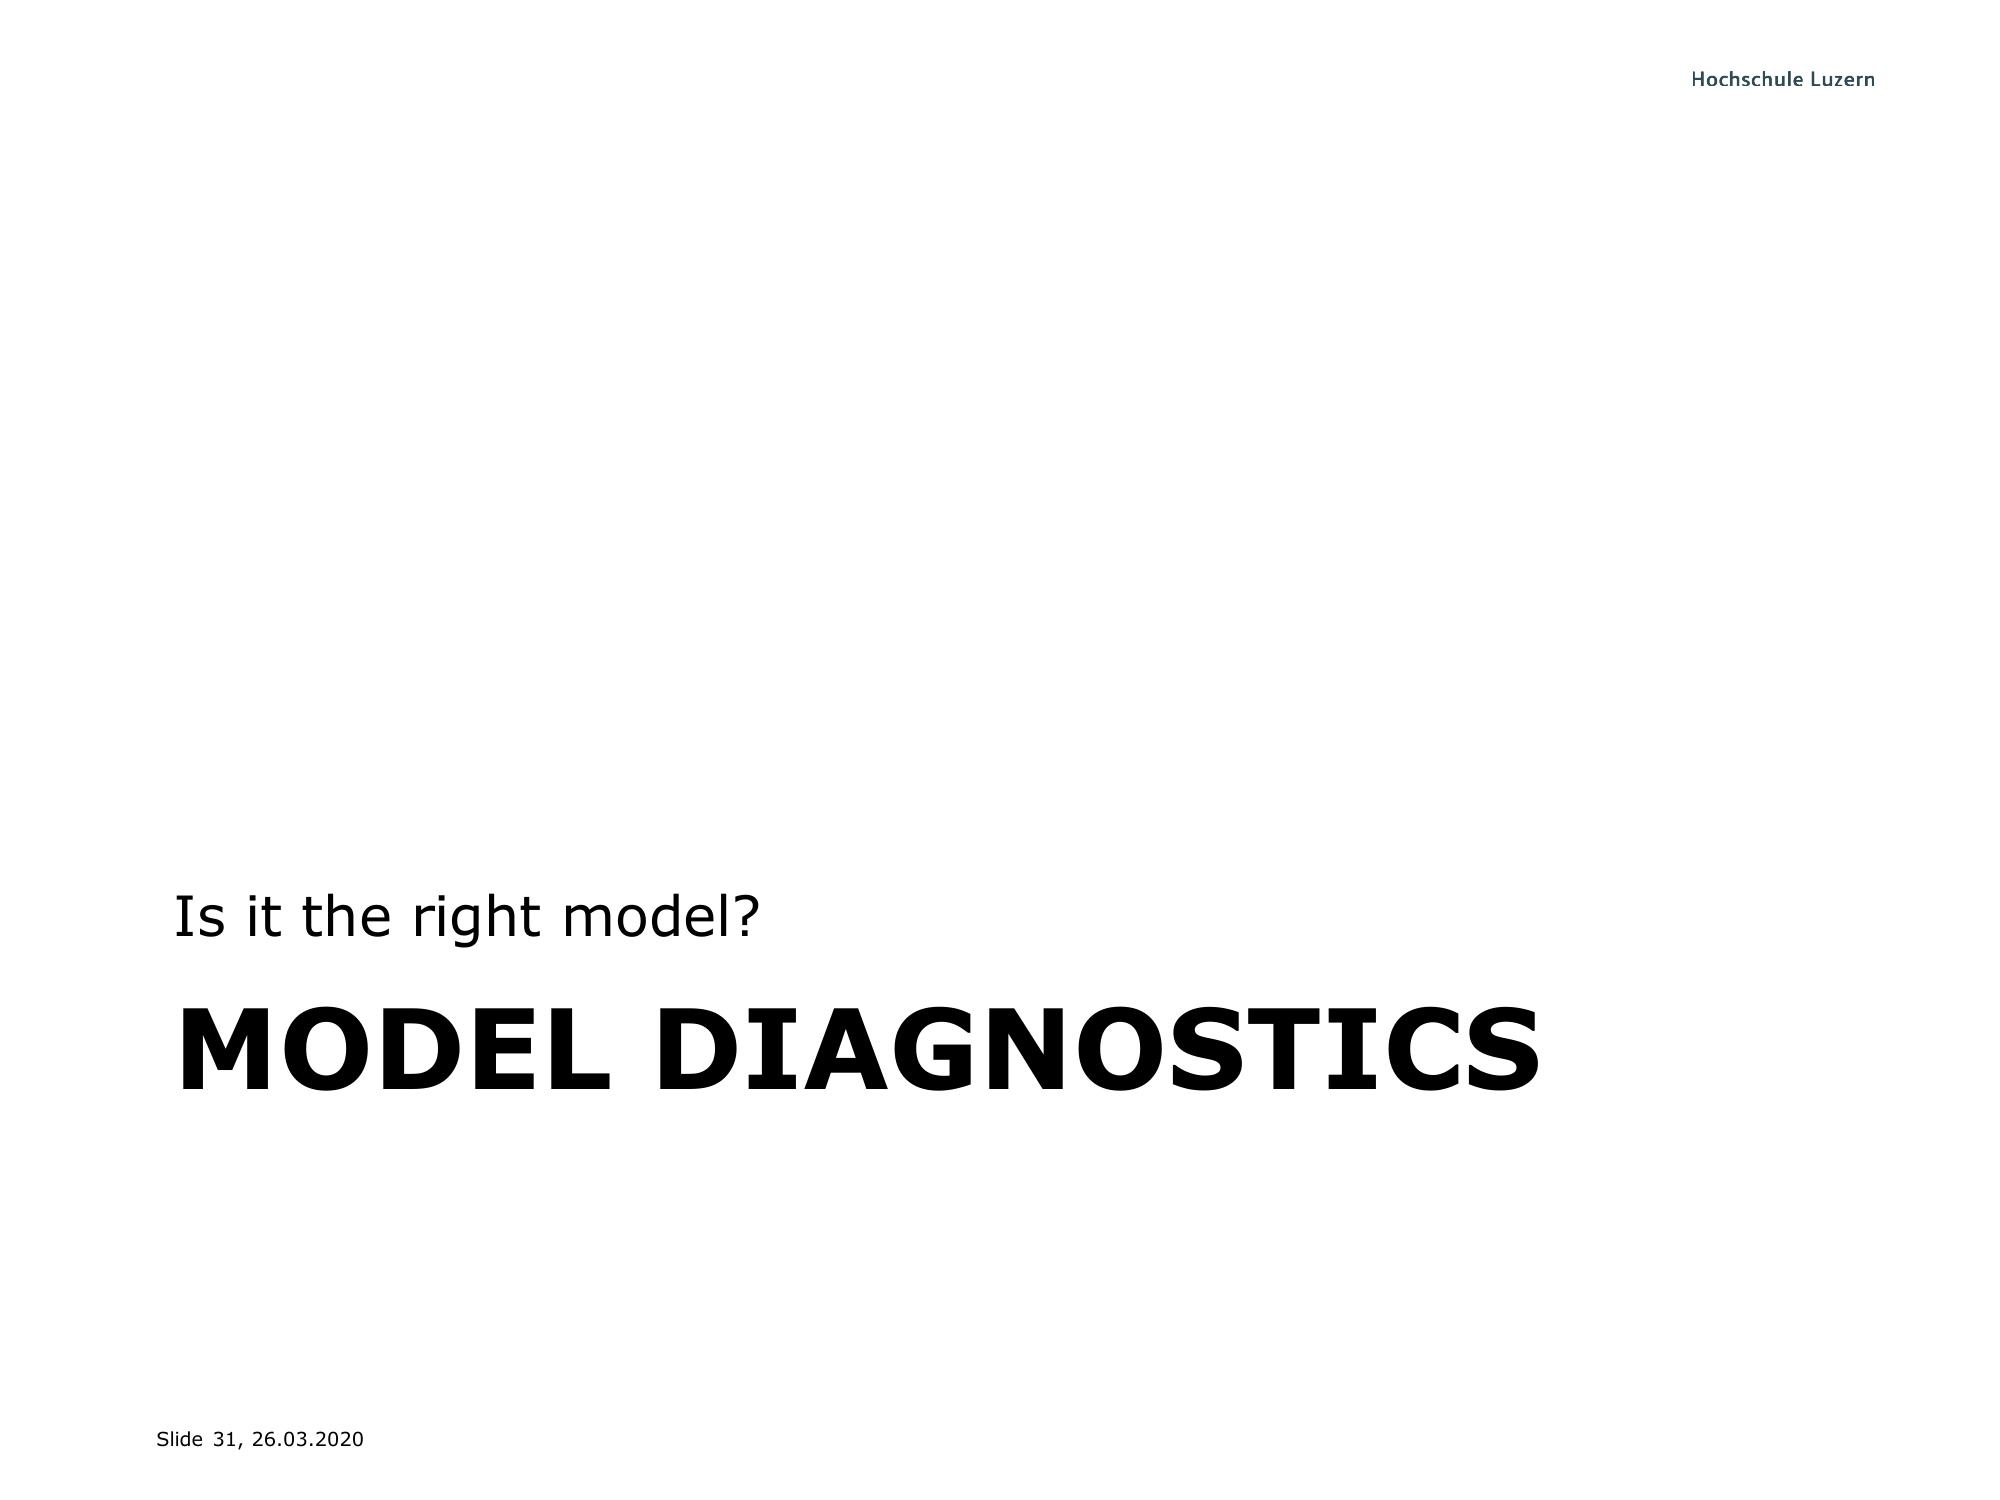Title: (170, 991, 1545, 1109)
